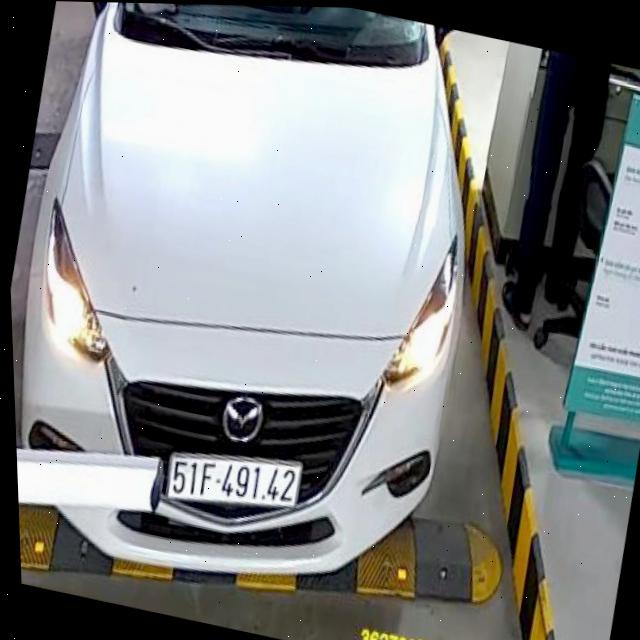car: (0, 0, 531, 636)
plate: (156, 434, 307, 529)
